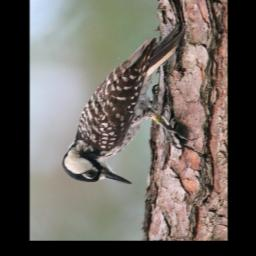Woodpecker: (62, 22, 194, 185)
